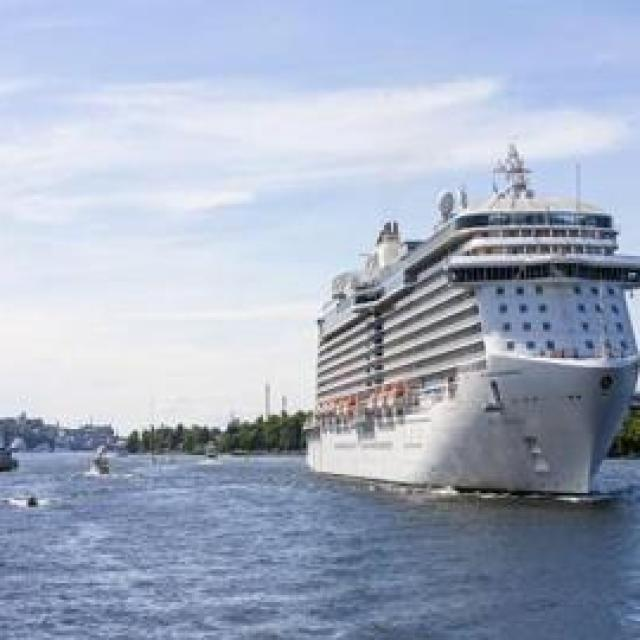passenger ship: (301, 154, 640, 495)
